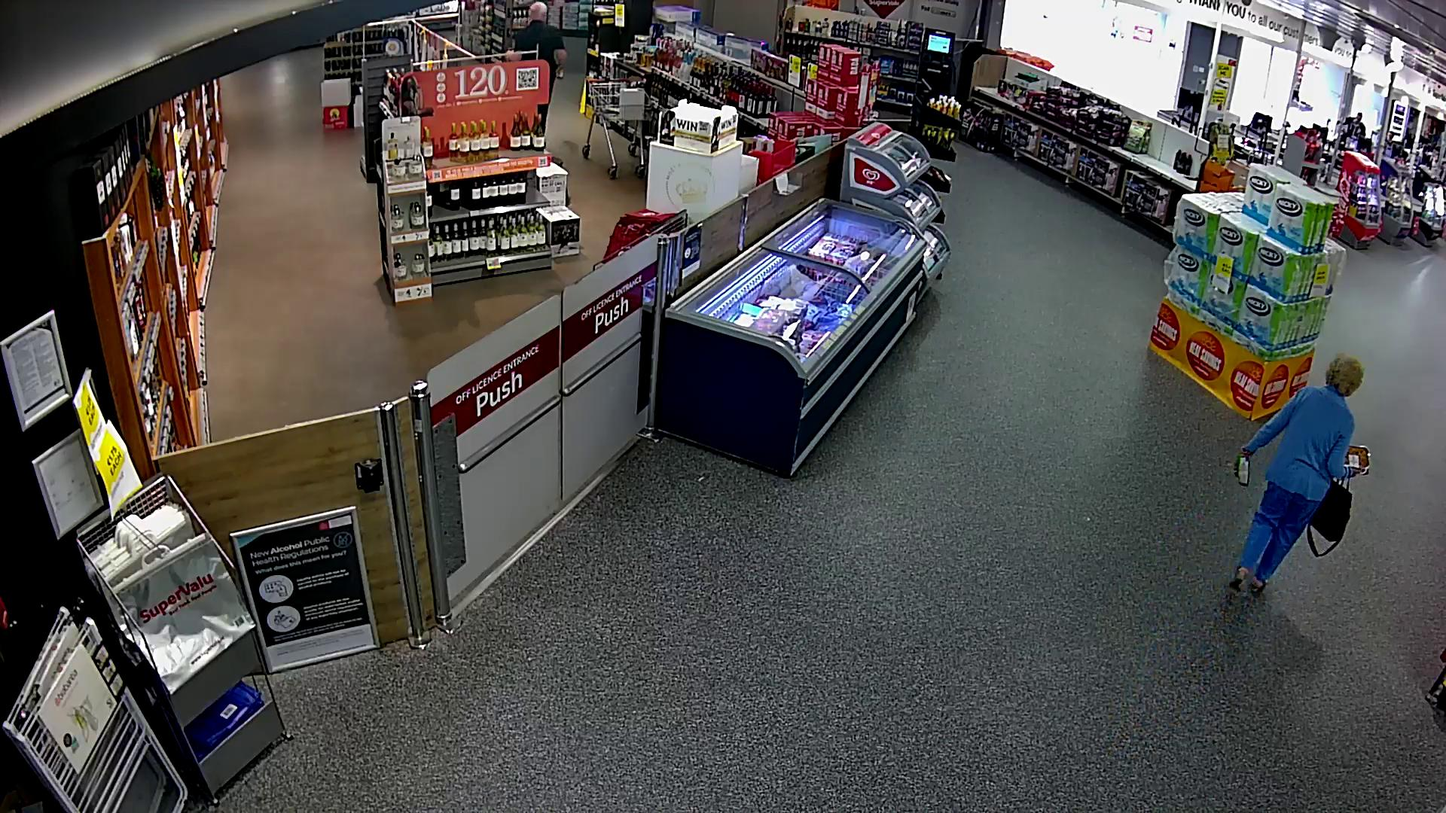backpack-or-handbag: (1308, 475, 1353, 557)
carrying-item: (1344, 442, 1371, 477), (1231, 448, 1253, 488)
person: (1230, 355, 1364, 594)
person-with-backpack-handbag-and-carrying-item-s-: (1230, 355, 1371, 594)
